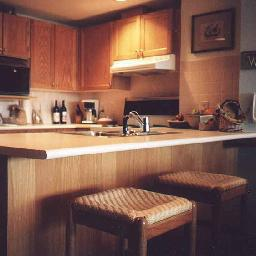Lavaplatos: (81, 117, 186, 138)
